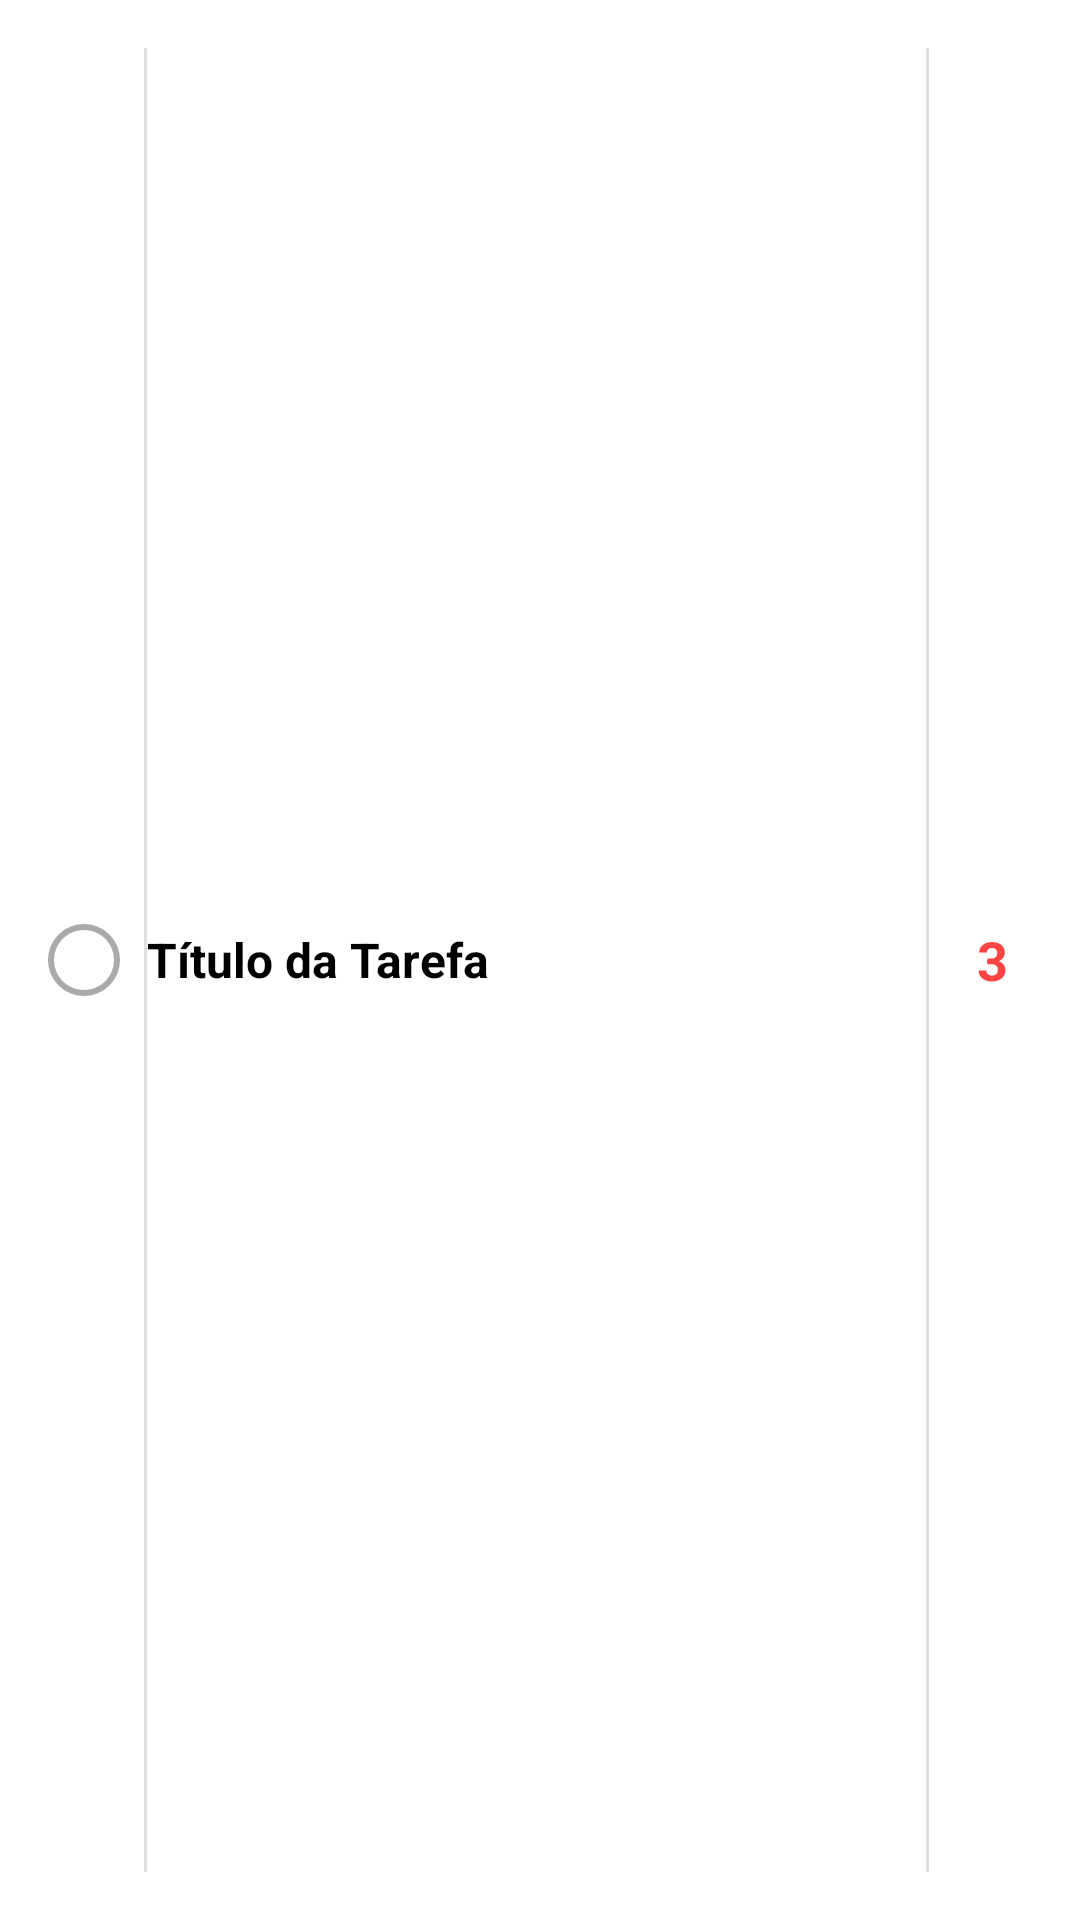

Where to tap for icons on this 1080*1920 app screen, as (x,y):
Marcar como concluída: (84,960)
